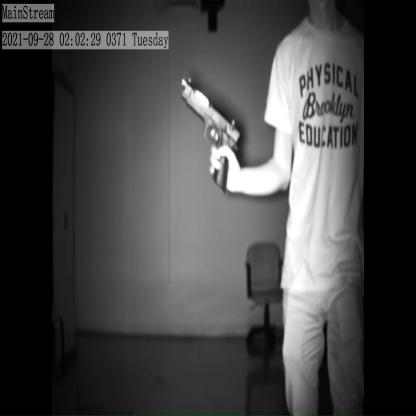weapon: (179, 72, 242, 200)
